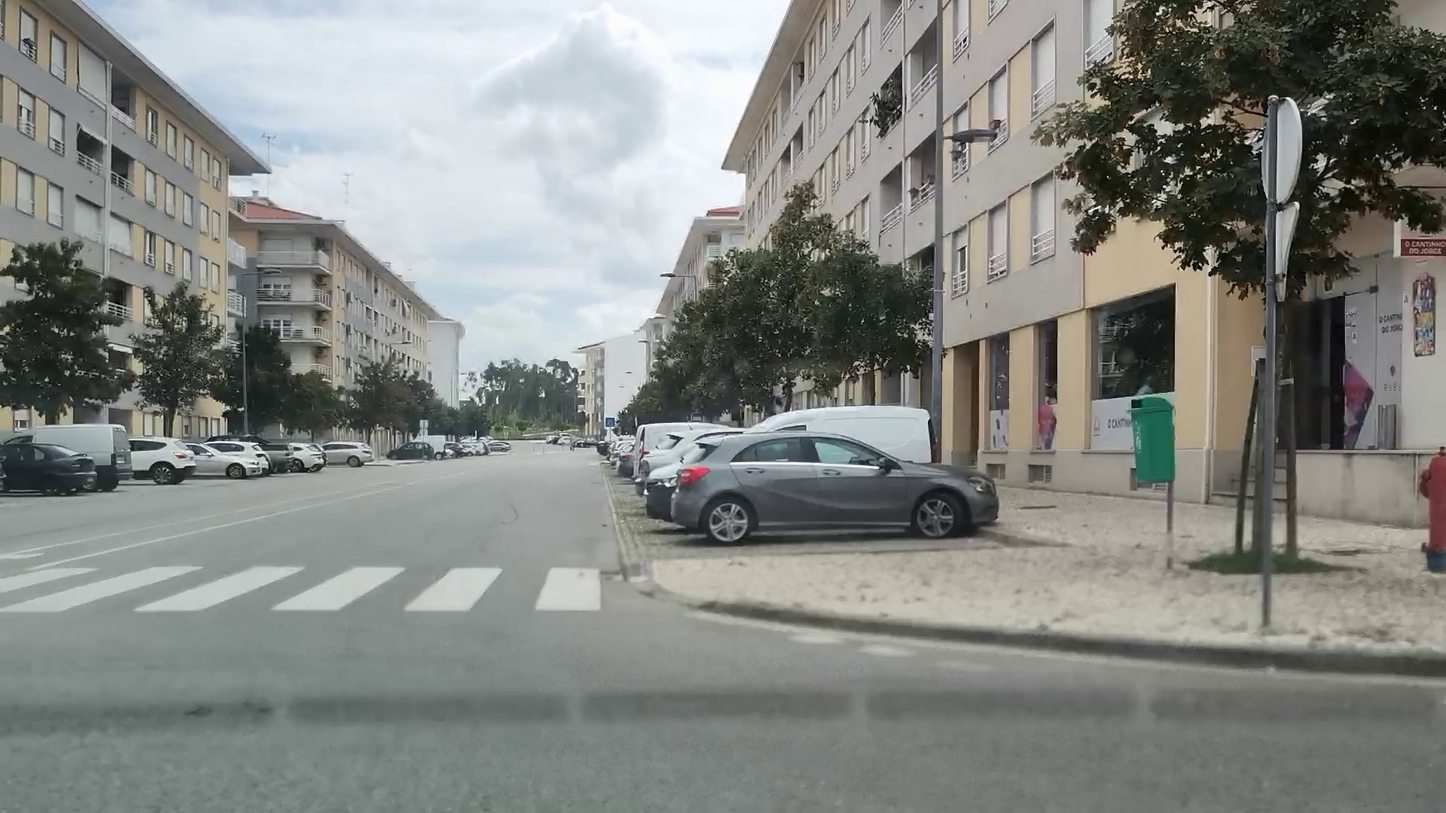Stairs: (0, 565, 609, 619)
